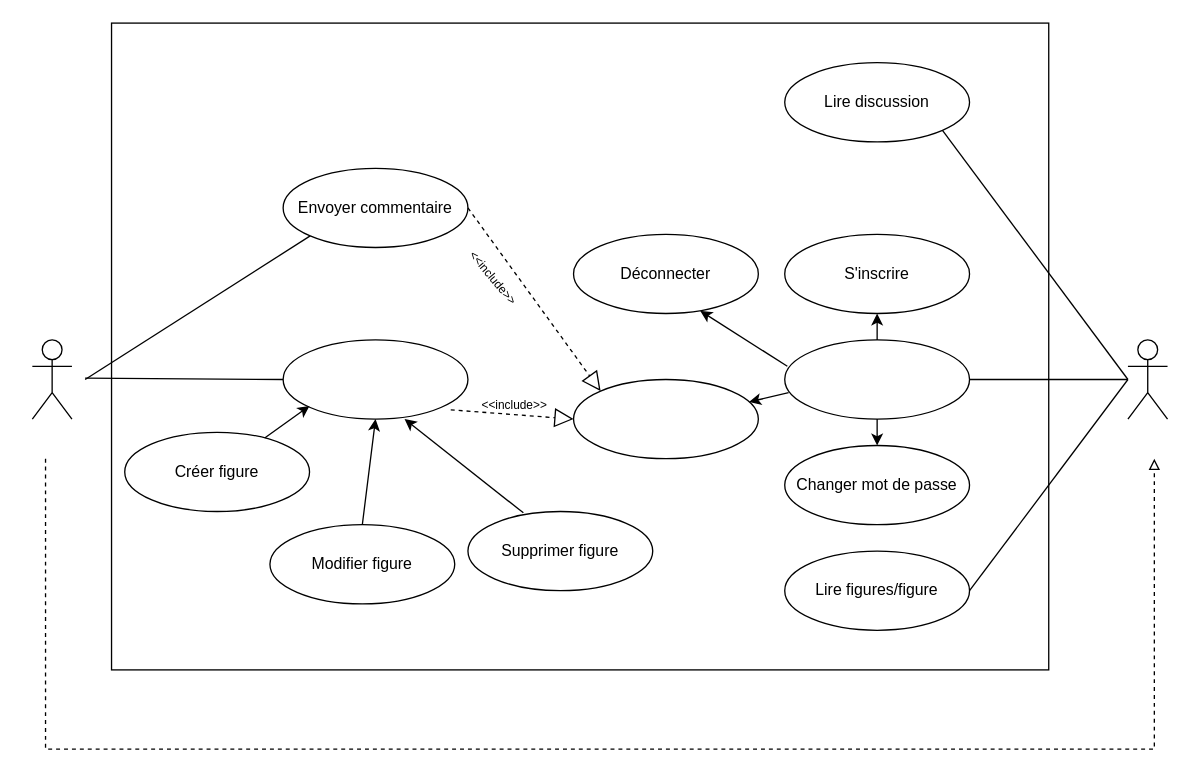
The diagram is 1196 pixels wide and 783 high, and some of its shapes have lost their labels. Here are the shapes that lost their labels. From the top down, the centre of each, then its label:
point 51,379: Membre
point 375,379: Gerér figure
point 876,379: Gérer compte
point 1147,379: Visiteur
point 665,418: Se connecter
